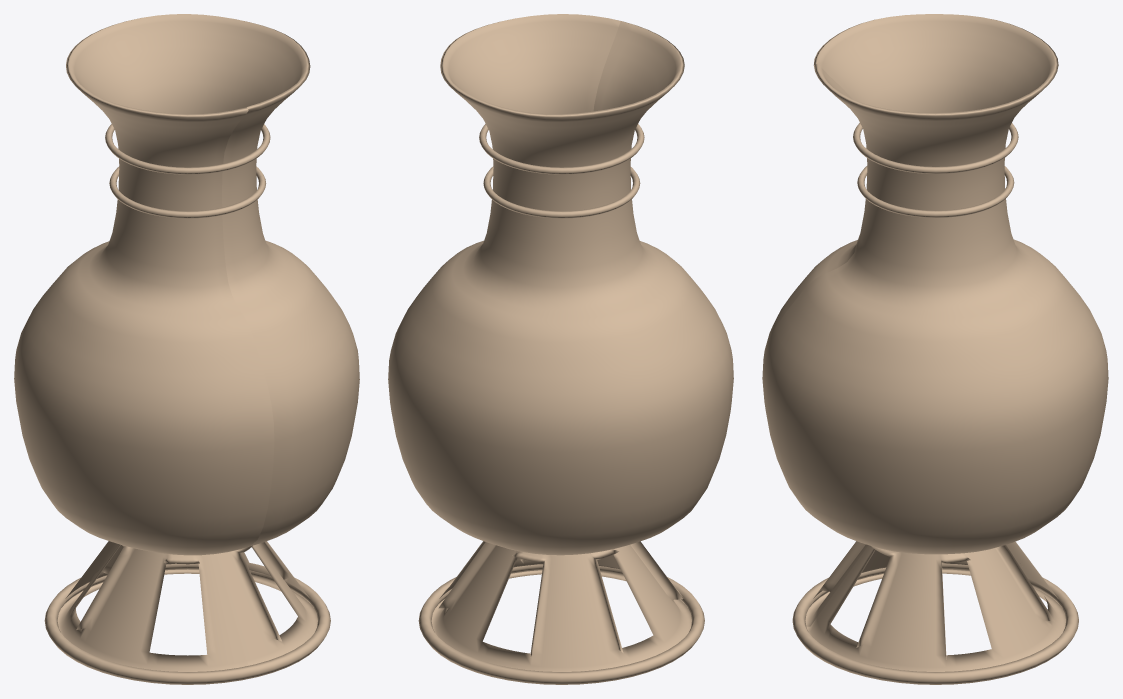
Rendered from flared-neck-jar-v2.glb.
3 renders of one model, left to right at view 1: azimuth 30°, elevation 25°; view 2: azimuth 150°, elevation 25°; view 3: azimuth 270°, elevation 25°, orthographic.
Parts seen in each view (by area): view 1: Hand thrown body with inner wall, Openwork pedestal with wall thickness, Foot rolled edge, Thrown cordon (×2); view 2: Hand thrown body with inner wall, Openwork pedestal with wall thickness, Foot rolled edge, Thrown cordon (×2); view 3: Hand thrown body with inner wall, Openwork pedestal with wall thickness, Foot rolled edge, Thrown cordon (×2).
Boxes of the visible parts, left/top/right/bottom form: Hand thrown body with inner wall: left=14, top=14, right=359, bottom=555; Openwork pedestal with wall thickness: left=57, top=541, right=317, bottom=671; Foot rolled edge: left=44, top=563, right=330, bottom=684; Thrown cordon (×2): left=105, top=123, right=270, bottom=218; Hand thrown body with inner wall: left=388, top=14, right=733, bottom=555; Openwork pedestal with wall thickness: left=431, top=541, right=691, bottom=671; Foot rolled edge: left=418, top=564, right=704, bottom=684; Thrown cordon (×2): left=479, top=124, right=644, bottom=218; Hand thrown body with inner wall: left=762, top=14, right=1108, bottom=554; Openwork pedestal with wall thickness: left=805, top=541, right=1065, bottom=671; Foot rolled edge: left=792, top=563, right=1078, bottom=684; Thrown cordon (×2): left=853, top=123, right=1018, bottom=217.
Size of the model in its own units: 0.4807 by 0.8637 by 0.4807.
